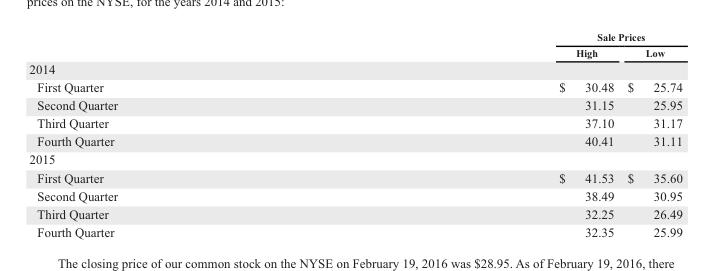table: (28, 29, 681, 239)
table column: (28, 29, 337, 239), (337, 29, 620, 239), (620, 29, 681, 239)
table column header: (28, 29, 681, 59)
table projected row header: (28, 149, 681, 168), (28, 59, 681, 77)
table row: (28, 149, 681, 168), (28, 59, 681, 77), (28, 77, 681, 95), (28, 95, 681, 113), (28, 113, 681, 131), (28, 131, 681, 149), (28, 168, 681, 186), (28, 186, 681, 204), (28, 204, 681, 222), (28, 222, 681, 239), (28, 29, 681, 44), (28, 44, 681, 59)
table spanning cell: (337, 29, 681, 44)
